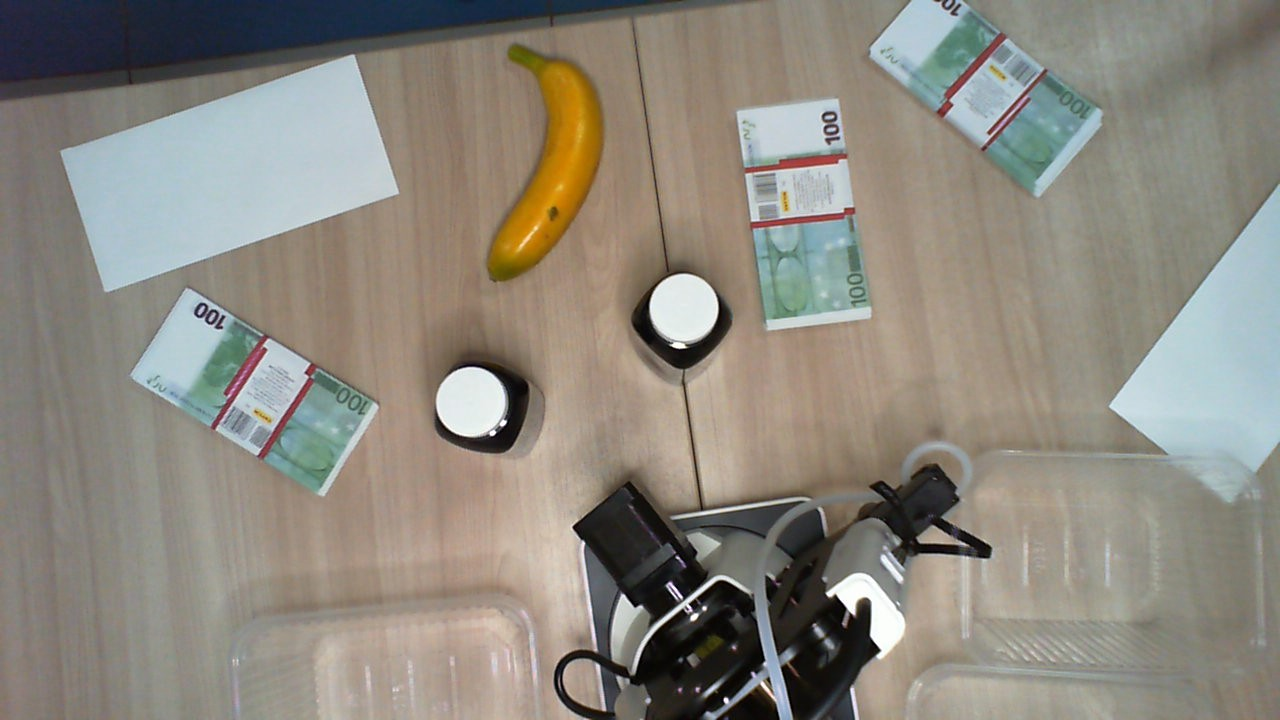banana: (483, 41, 606, 285)
bottle: (434, 357, 532, 457), (638, 270, 728, 365)
convert: (58, 52, 405, 292), (1109, 183, 1280, 504)
money: (126, 283, 382, 498), (867, 2, 1104, 193), (738, 96, 872, 332)
